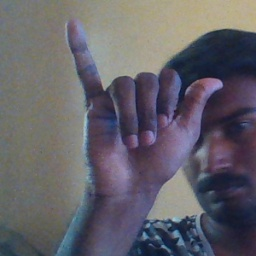J: (63, 17, 223, 185)
